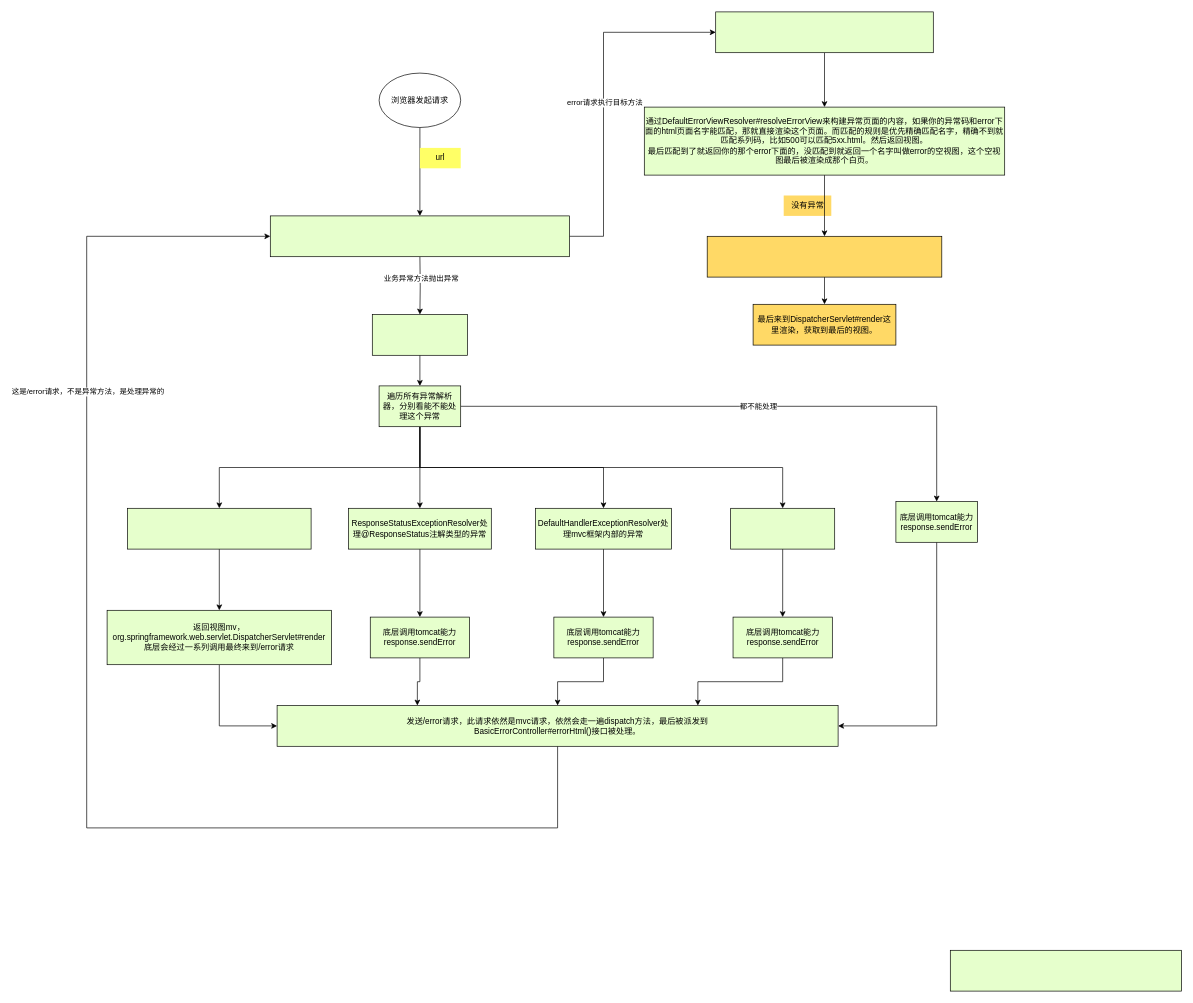
Image size: 1193x1003. Some labels were removed from this diagram. The box of each missing label's shape, as (x1, y1, x2, y2) in pixels:
ExceptionHandlerExceptionResolver处理@ControllerAdvice类型的全局异常。: (127, 508, 311, 549)
org.springframework.web.servlet.DispatcherServlet#doDispatch 中的ha.handle执行目标方法: (270, 215, 570, 257)
因为没有异常处理，所以执行完目标方法，也就是/error请求之后，会执行applyDefaultViewName: (950, 950, 1182, 991)
实现HandlerExceptionResolver自定义异常处理器: (730, 508, 835, 549)
异常被捕获，进入 processDispatchResult: (372, 314, 468, 355)
来到DispatcherServlet#applyDefaultViewName(ModelAndView mv)此时的mv就是上一步返回的mv: (707, 236, 942, 277)
通过DefaultErrorAttributes来组装出一个异常页面需要的信息，组成一个map: (715, 11, 933, 53)
